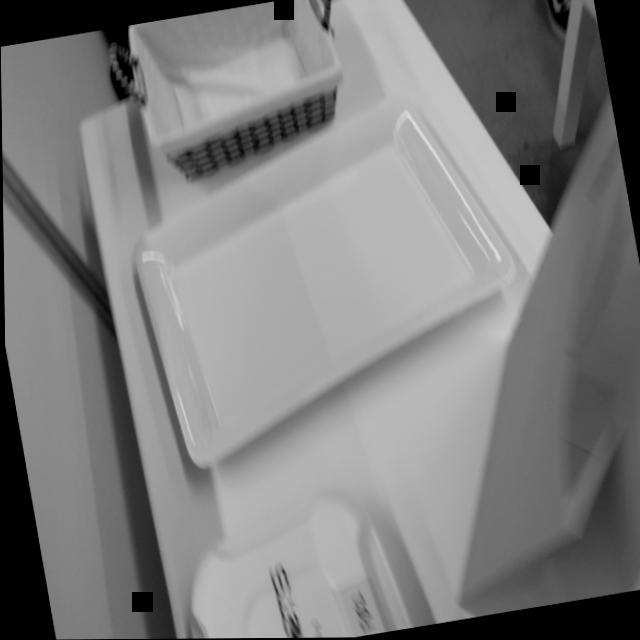tray: (107, 84, 545, 486)
